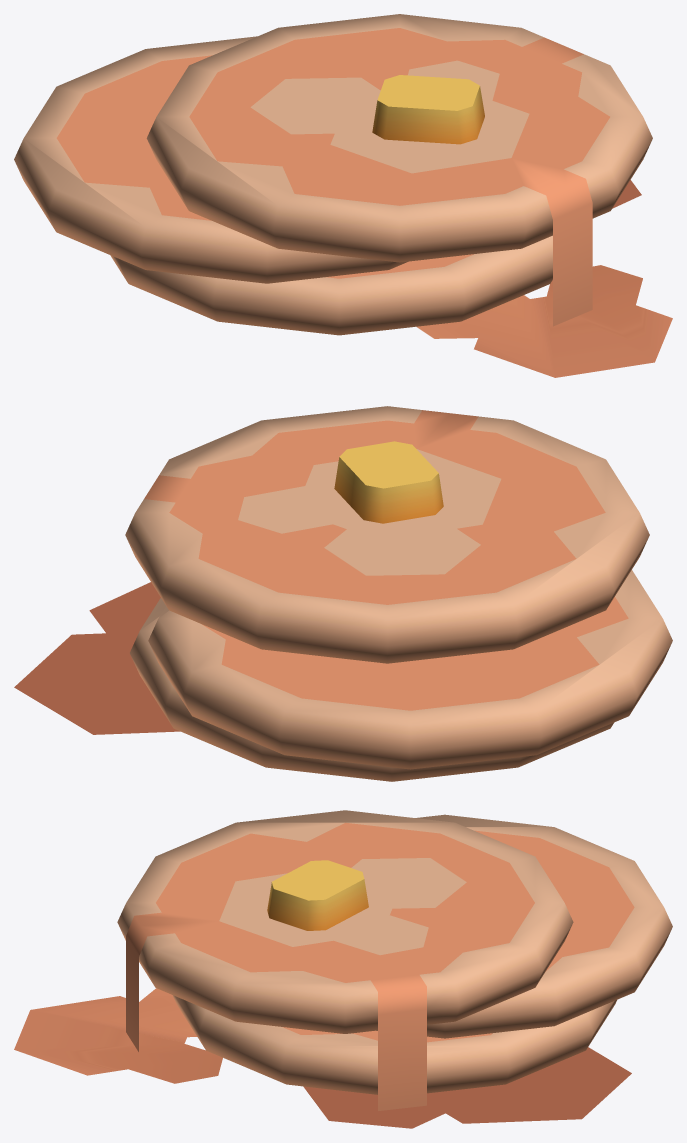
The model's file is kenney-food-pancakes.glb.
The picture shows the model from 3 angles, top to bottom: view 1: azimuth 30°, elevation 25°; view 2: azimuth 150°, elevation 25°; view 3: azimuth 270°, elevation 25°; orthographic projection. The views are drawn at different scales.
Visible parts, largest first — view 1: pancakes; view 2: pancakes; view 3: pancakes.
Part boxes in pixels (x1=…): pancakes: x1=14, y1=14, x2=672, y2=377; pancakes: x1=14, y1=406, x2=672, y2=781; pancakes: x1=14, y1=810, x2=672, y2=1128.
Bounding box in the file's own units: 0.4355 × 0.1216 × 0.5039.
Materials: 1 (1 with a texture image).
